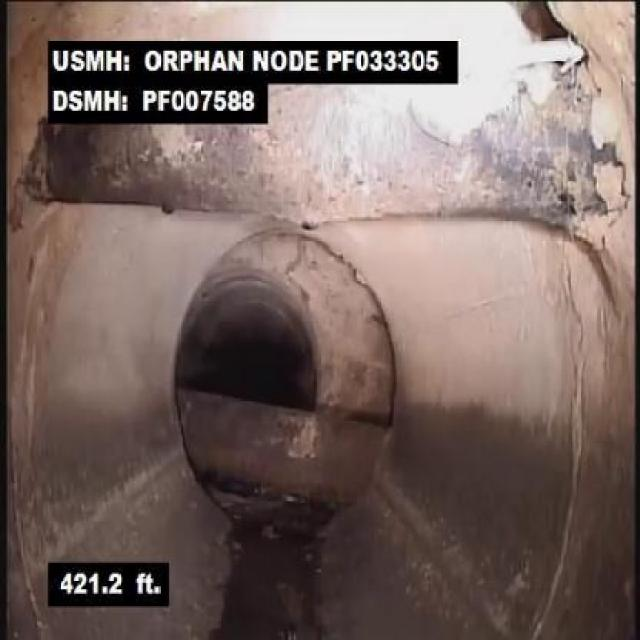Utility intrusion: (40, 121, 608, 232), (150, 363, 422, 542)
